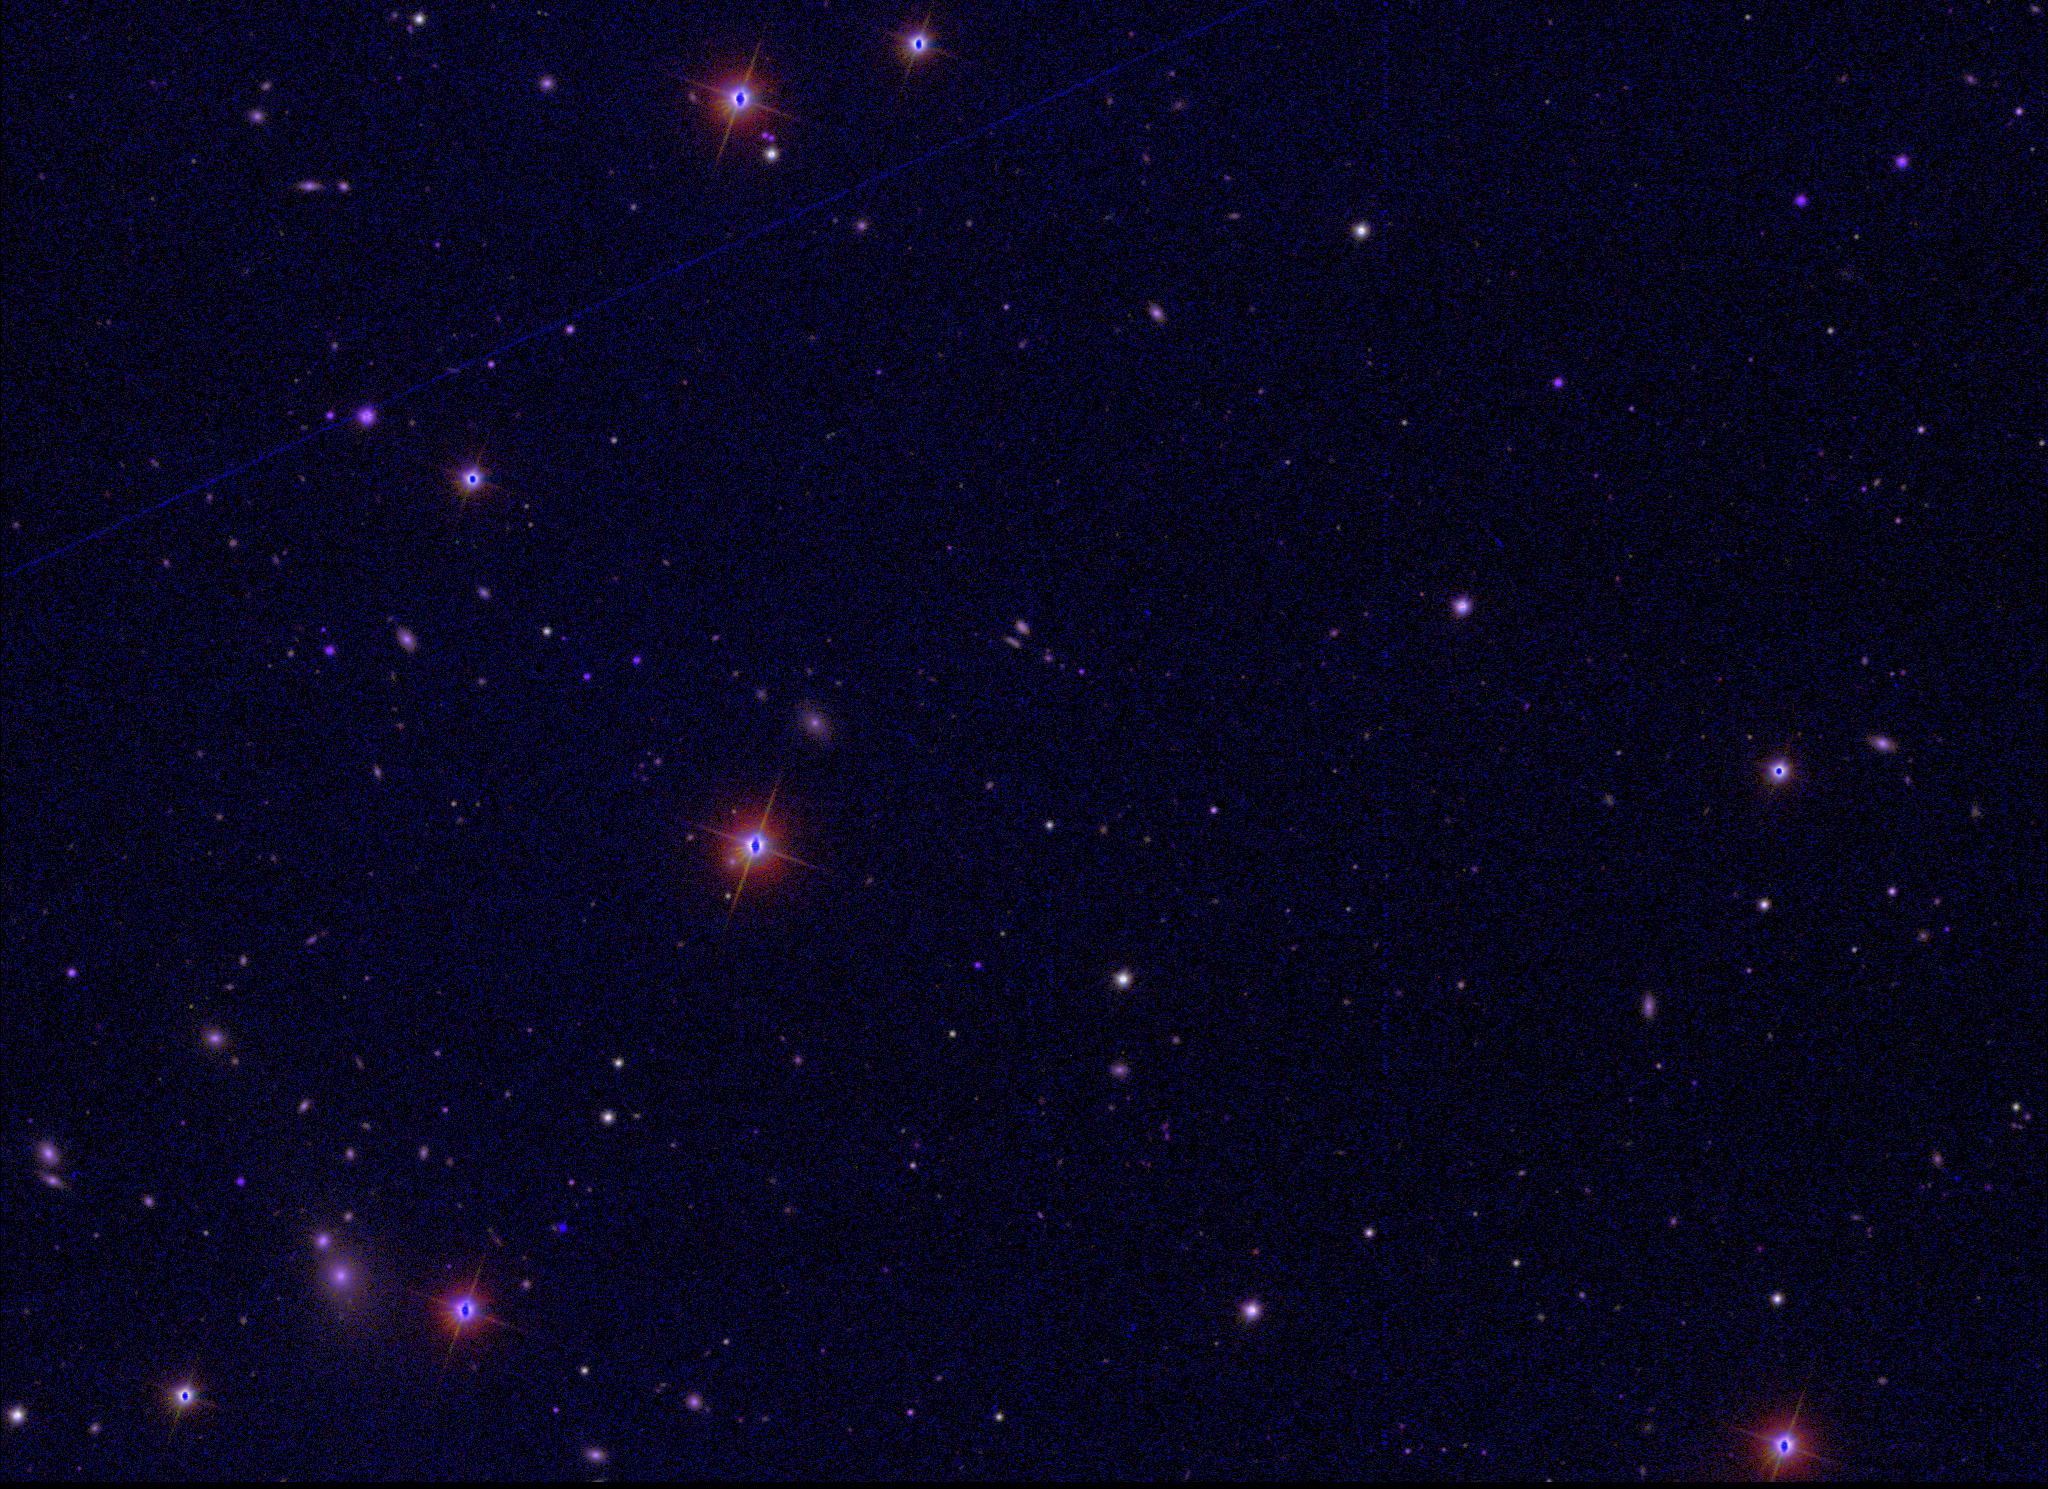L: (550, 1219, 564, 1233)
